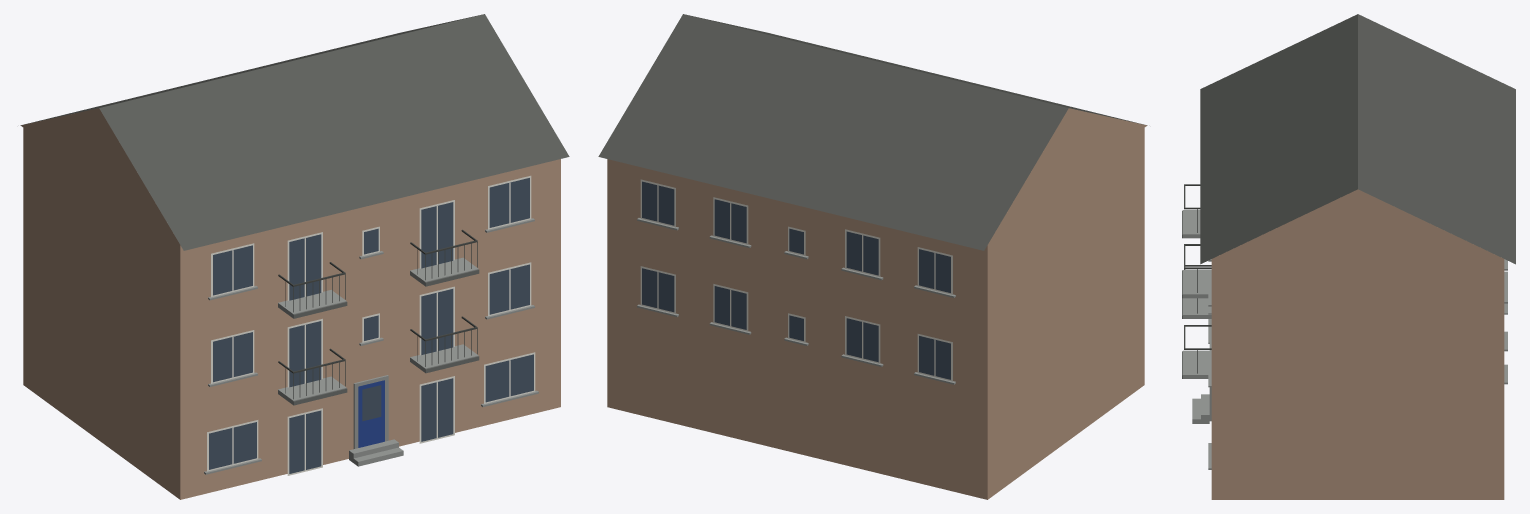
The model's file is nw-portiek-3st-blue-door__brick-white__3__gable__long__solid.glb.
3 views of the same model, side by side, from view 1: azimuth 30°, elevation 25°; view 2: azimuth 150°, elevation 25°; view 3: azimuth 270°, elevation 25° (orthographic). The views are drawn at different scales.
Parts seen in each view (by area): view 1: nw-portiek-3st-blue-door__brick-white__3__gable__long__solid; view 2: nw-portiek-3st-blue-door__brick-white__3__gable__long__solid; view 3: nw-portiek-3st-blue-door__brick-white__3__gable__long__solid.
Boxes of the visible parts, x1,y1,x2,y2 form: nw-portiek-3st-blue-door__brick-white__3__gable__long__solid: [20, 14, 569, 499]; nw-portiek-3st-blue-door__brick-white__3__gable__long__solid: [598, 14, 1147, 499]; nw-portiek-3st-blue-door__brick-white__3__gable__long__solid: [1182, 14, 1515, 499].
Size of the model in its own units: 14.43 by 12.04 by 11.62.
